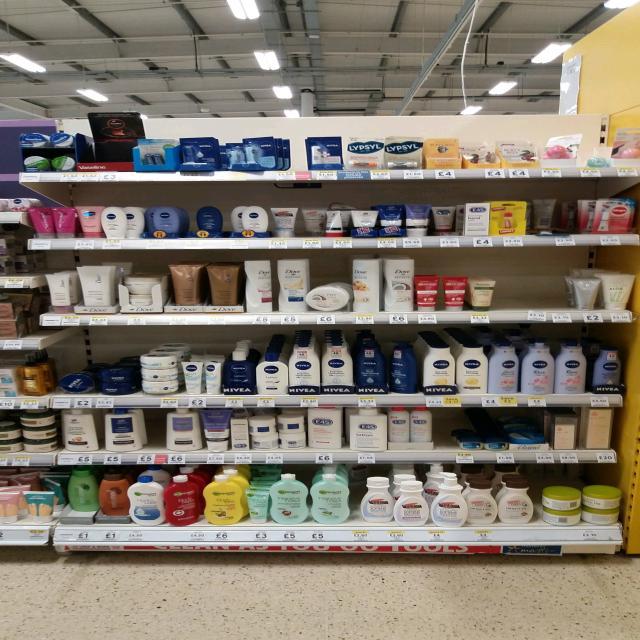void: (500, 254, 534, 322), (536, 252, 568, 324)
